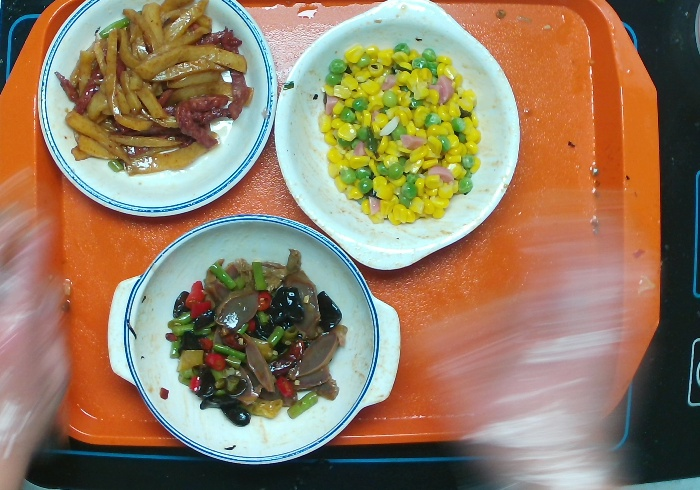HZYJPL-Dai_Er_Bai_Yuan_Wan: (274, 1, 521, 274)
HZYJPL-Lan_Bian_Dai_Er_Wan: (108, 215, 402, 466)
HZYJPL-Lan_Bian_Yuan_Die: (38, 1, 278, 216)
